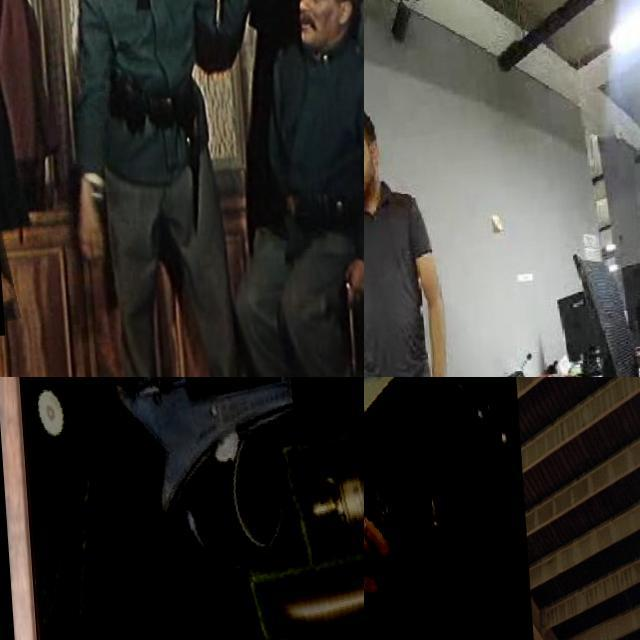gun-knife-thesis - v11 Yolov5 augmented: (7, 377, 364, 640), (364, 377, 564, 640), (0, 0, 92, 346)
